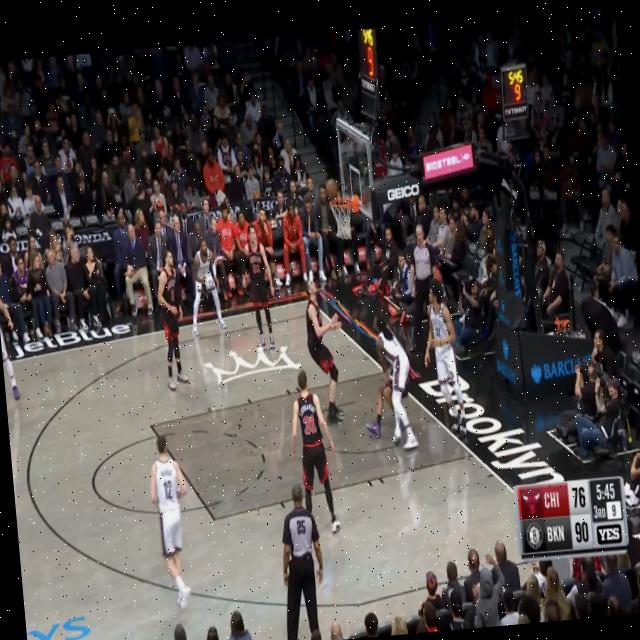foul: (350, 302, 435, 479)
